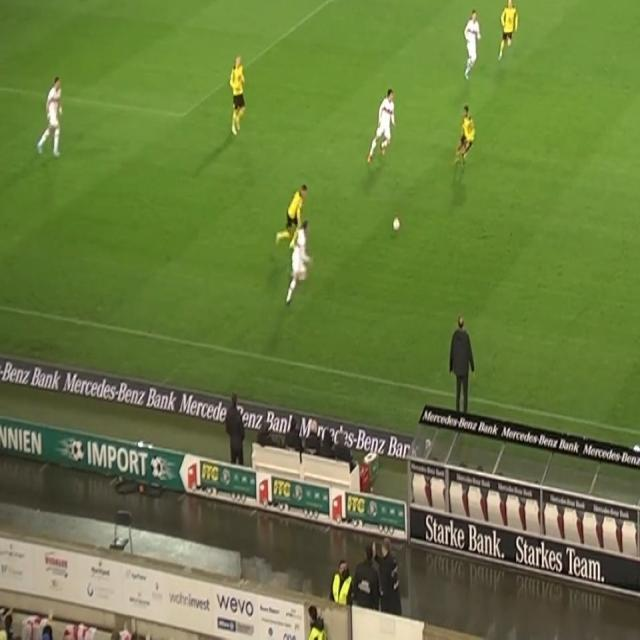ball: (392, 215, 400, 233)
